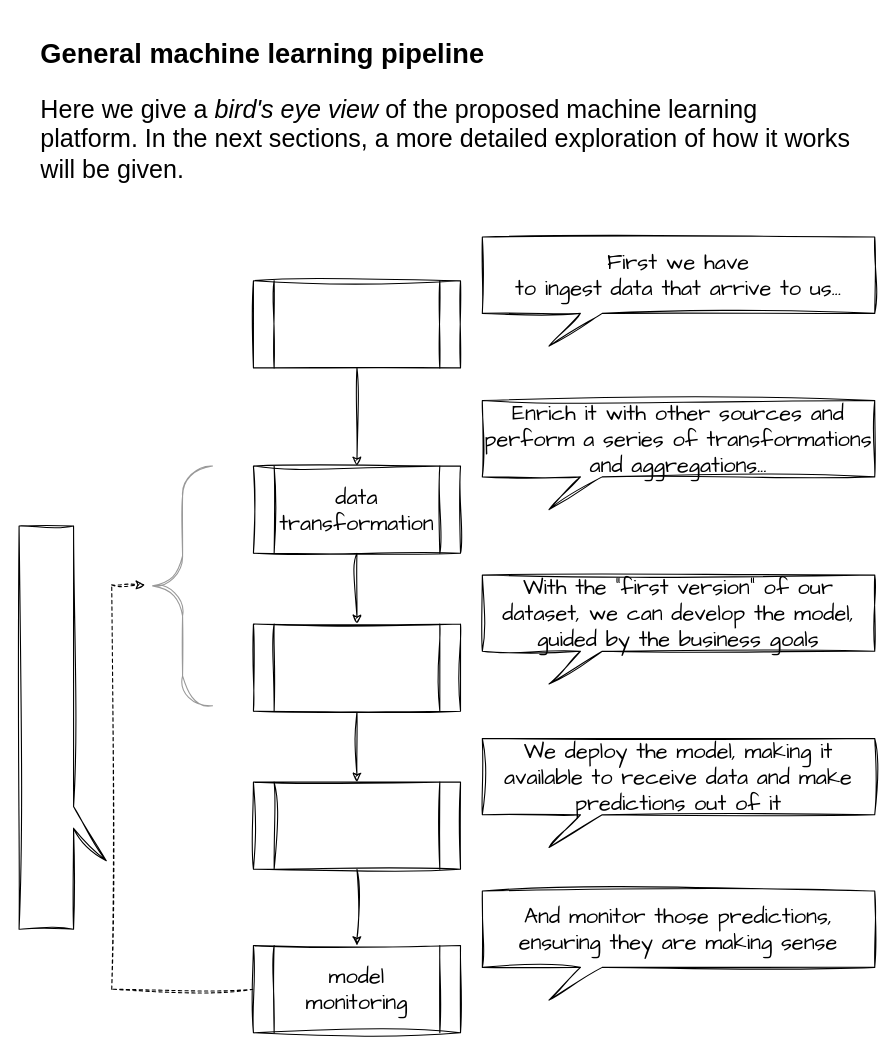
Image size: 894x1052. Some labels were removed from this diagram. The centre of each missing label's shape, as x and y in pixels:
data ingestion: pixel 356 324
Depending on the results, we may have to iterate the development: pixel 62 727
model deploy: pixel 356 825
model development: pixel 356 667
